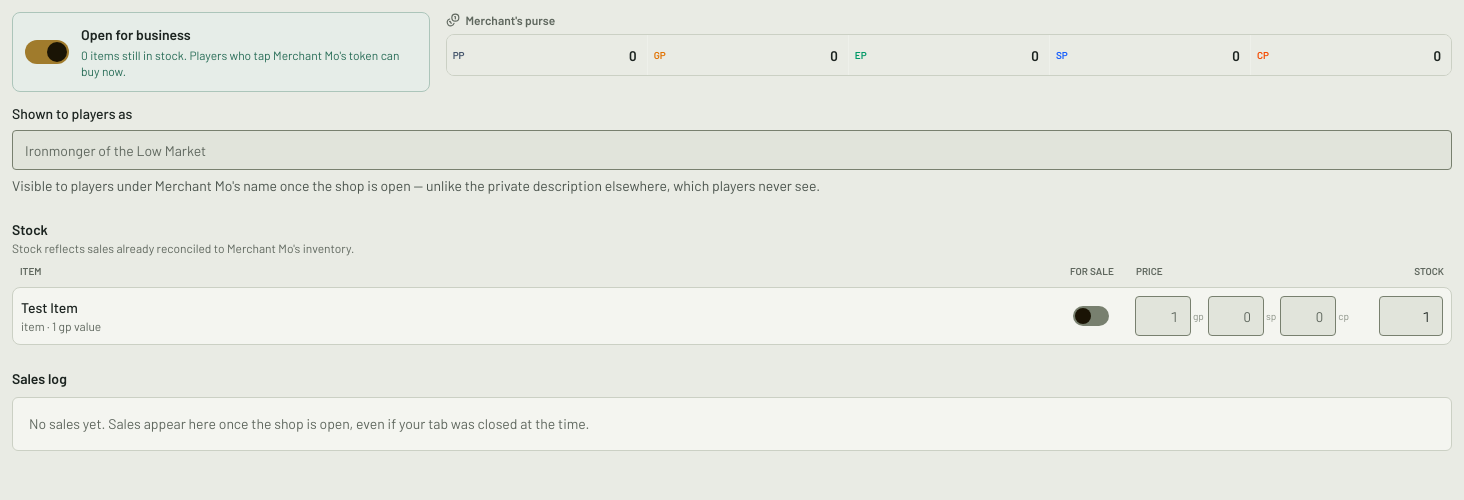
Test: NPCShopTab › republishing while open (Task 13b, controller ruling R22) › surfaces a failed republish to the DM
Step 1. Type "5" into the field named "Test Item price (gp)" → (1163, 316), box [1135,296,1191,336]
Wait 600 ms
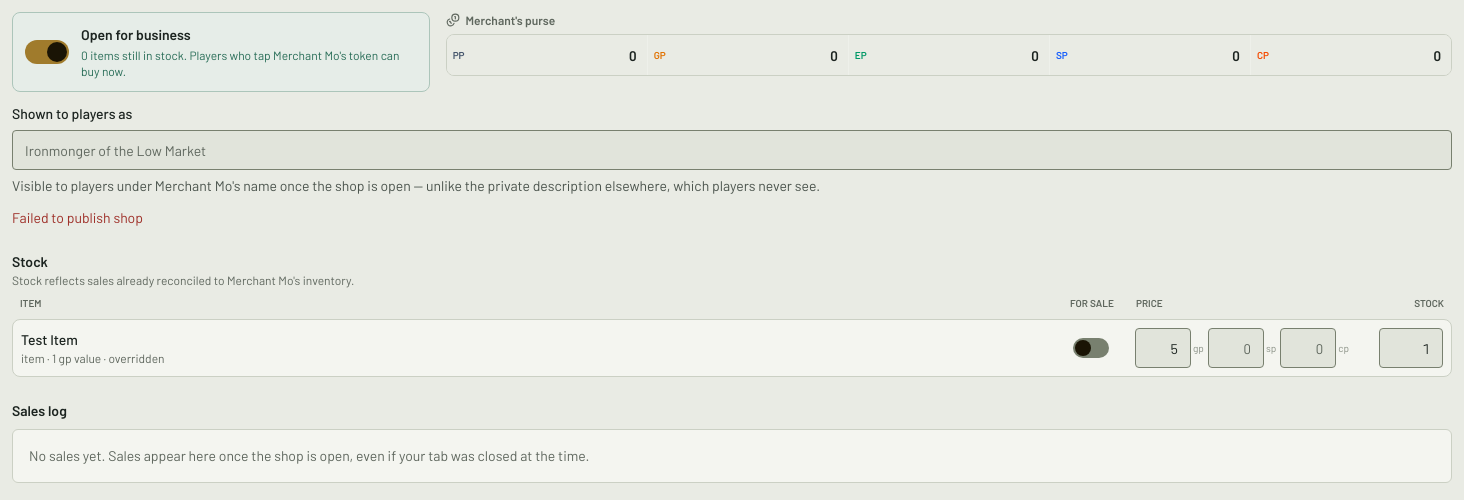
Expected: the message reads "Failed to publish shop", [12,209,143,226]
